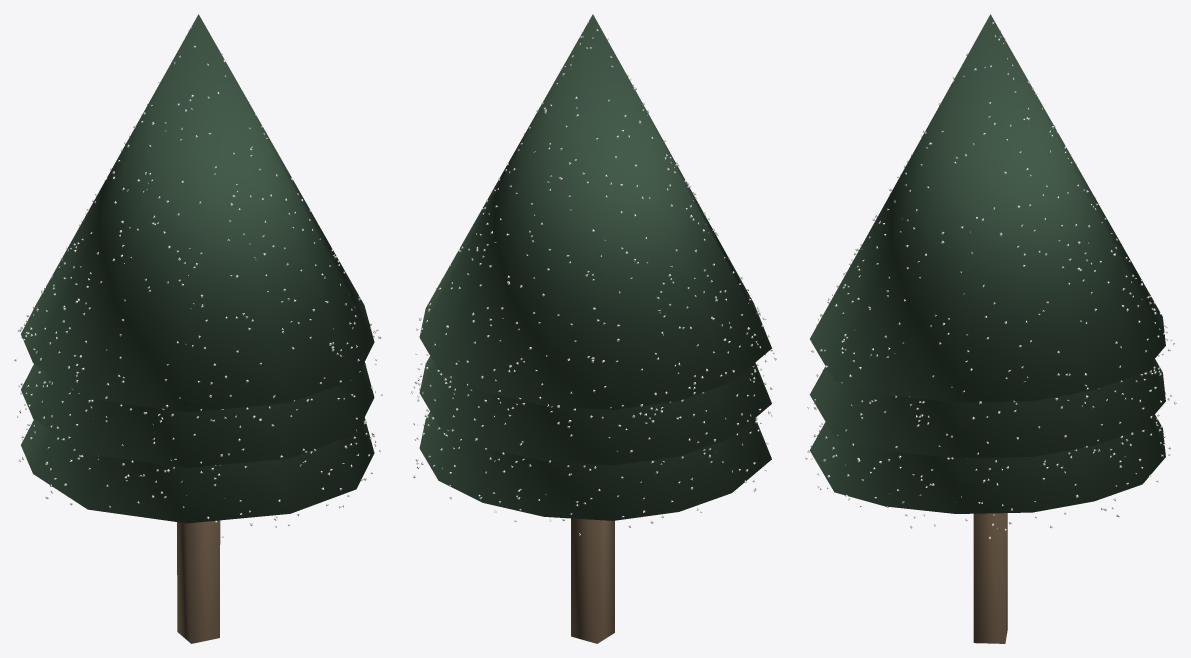
File: Ice-TreeRevision.fbx
3 renders of one model, left to right at view 1: azimuth 30°, elevation 25°; view 2: azimuth 150°, elevation 25°; view 3: azimuth 270°, elevation 25°, orthographic.
Parts seen in each view (by area): view 1: Cone; view 2: Cone; view 3: Cone.
Boxes of the visible parts, x1=… form: Cone: x1=14, y1=14, x2=382, y2=643; Cone: x1=411, y1=14, x2=776, y2=643; Cone: x1=805, y1=14, x2=1176, y2=643.
Bounding box in the file's own units: 198 × 367 × 199.
